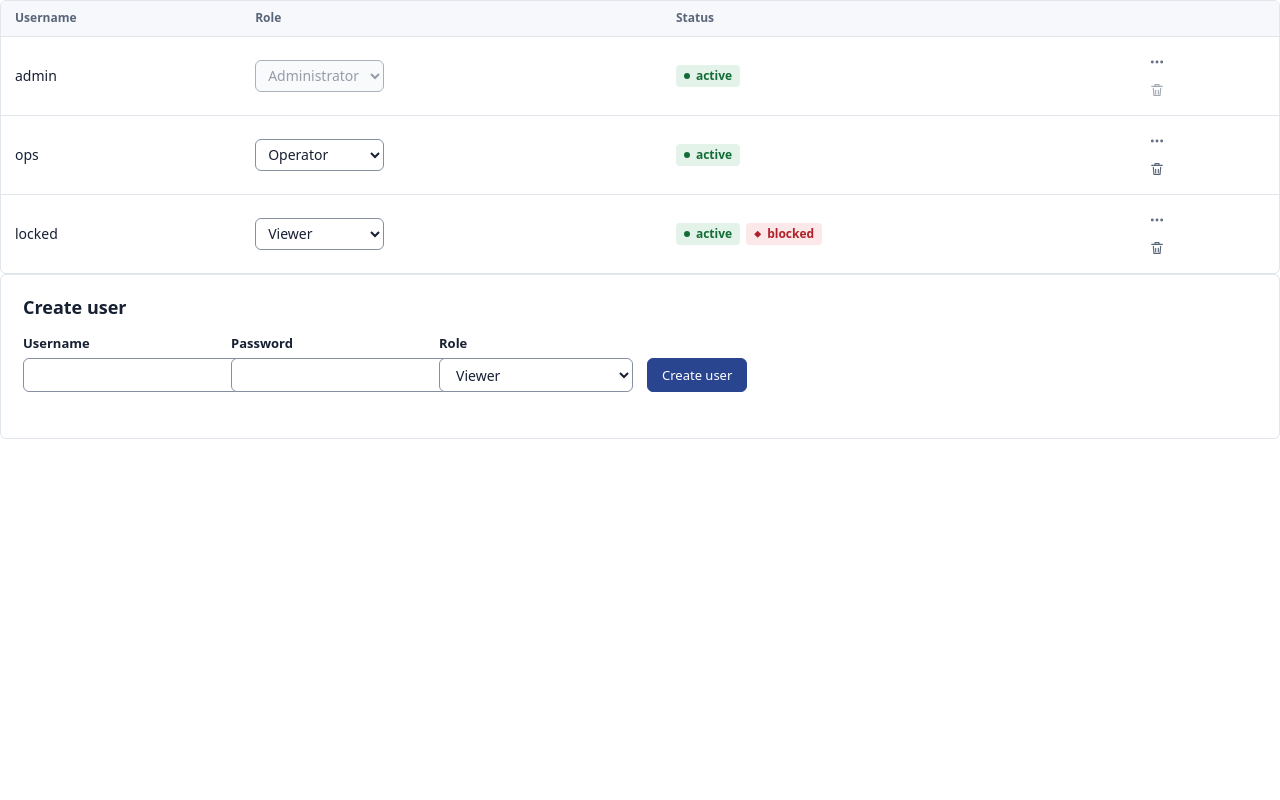
Test: UsersTab delete and unblock › asks before deleting and says what it does
Expected: the text "ops" is shown, [1,116,241,195]
What coordinates should you click on to do the following:
click the button named "Delete ops"
I would click on:
 (1157, 169)
Its box is [1143,155,1171,183].
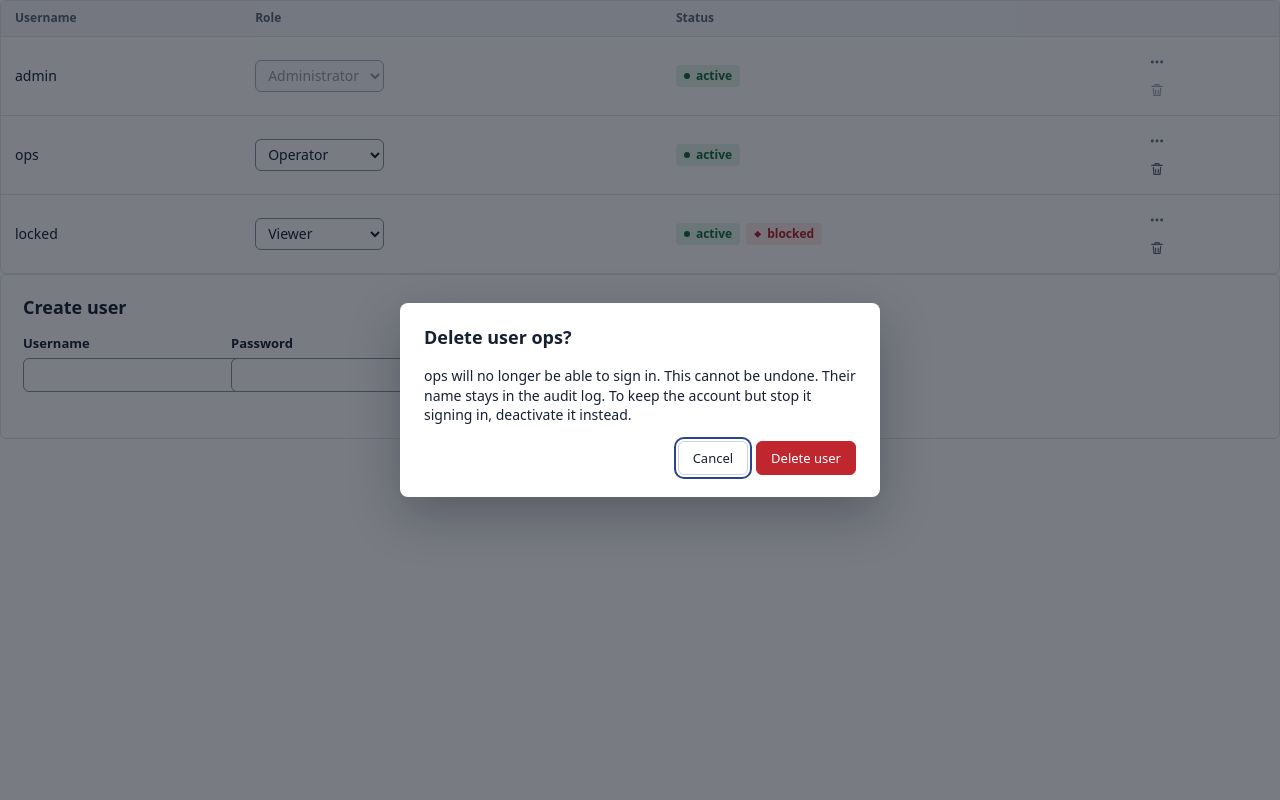
Now the button "Delete user" is shown, box [756,441,856,475]
